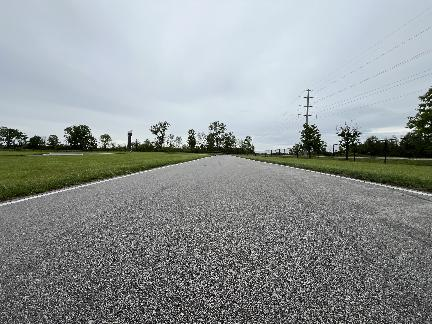Grass: (0, 153, 208, 200), (240, 156, 431, 190)
Lane: (0, 156, 431, 323)
